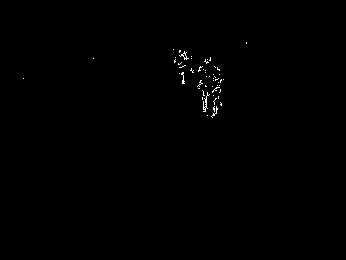person: (196, 54, 211, 115), (207, 62, 223, 118)
